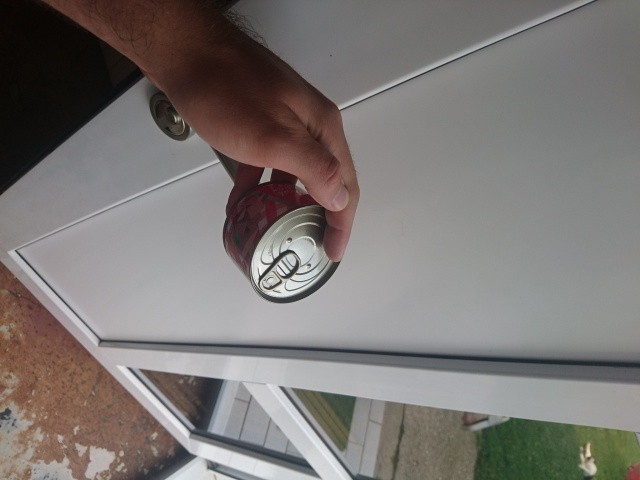Podravka Luncheon Meat 150g: (219, 177, 351, 307)
